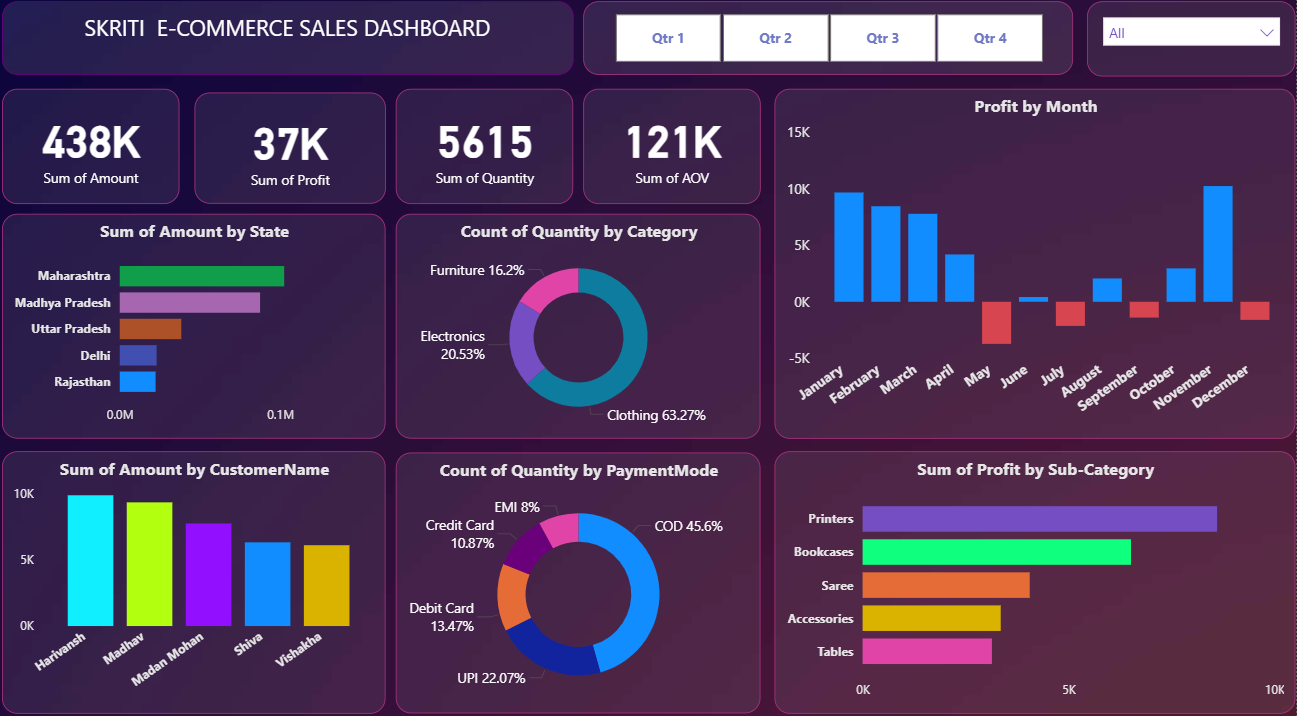

The dashboard page shown, as its layout file describes it:
{"tool":"powerbi","page":{"name":"Page 1","canvas":[1280,720],"ordinal":0},"visuals":[{"type":"columnChart","title":"Profit by Month","fields":{"Category":["Orders.Order Date.Variation.Date Hierarchy.Month"],"Y":["Sum(Details.Profit)"]},"box":[770.4,96.6,509.9,342.4],"z":0},{"type":"barChart","fields":{"Y":["Sum(Details.Profit)"],"Category":["Details.Sub-Category"]},"box":[770.4,451.2,509.9,256.8],"z":1000},{"type":"donutChart","fields":{"Category":["Details.Category"],"Y":["CountNonNull(Details.Quantity)"]},"box":[399.9,218.9,357.1,220.1],"z":2000},{"type":"donutChart","fields":{"Y":["CountNonNull(Details.Quantity)"],"Category":["Details.PaymentMode"]},"box":[399.9,452.4,357.1,255.6],"z":3000},{"type":"card","fields":{"Values":["Sum(Details.Amount)"]},"box":[14.7,96.6,173.6,112.5],"z":4000},{"type":"barChart","fields":{"Category":["Orders.State"],"Y":["Sum(Details.Amount)"]},"box":[14.7,218.9,375.4,220.1],"z":5000},{"type":"columnChart","fields":{"Category":["Orders.CustomerName"],"Y":["Sum(Details.Amount)"]},"box":[14.7,451.2,375.4,256.8],"z":6000},{"type":"slicer","fields":{"Values":["Orders.Order Date.Variation.Date Hierarchy.Quarter"]},"box":[583.3,11,479.4,72.1],"z":7000},{"type":"slicer","fields":{"Values":["Orders.State"]},"box":[1076.1,11,204.2,73.4],"z":8000},{"type":"textbox","box":[14.7,11,558.8,72.1],"z":9000},{"type":"card","fields":{"Values":["Sum(Details.Profit)"]},"box":[203,100.3,187.1,108.8],"z":10000},{"type":"card","fields":{"Values":["Sum(Details.Quantity)"]},"box":[399.9,96.6,173.6,112.5],"z":11000},{"type":"card","fields":{"Values":["Sum(Details.AOV)"]},"box":[583.3,96.6,173.6,112.5],"z":12000}]}

Visuals, with their boxes in screenshot pixels (x1, y1, x2, y2), scaled from the page's 1280x720 canvas onto the 1297x716 screenshot:
"Profit by Month" columnChart: {"left": 781, "top": 96, "right": 1296, "bottom": 437}
barChart - Sum(Details.Profit) x Details.Sub-Category: {"left": 781, "top": 449, "right": 1296, "bottom": 704}
donutChart - Details.Category x CountNonNull(Details.Quantity): {"left": 405, "top": 218, "right": 767, "bottom": 437}
donutChart - CountNonNull(Details.Quantity) x Details.PaymentMode: {"left": 405, "top": 450, "right": 767, "bottom": 704}
card - Sum(Details.Amount): {"left": 15, "top": 96, "right": 191, "bottom": 208}
barChart - Orders.State x Sum(Details.Amount): {"left": 15, "top": 218, "right": 395, "bottom": 437}
columnChart - Orders.CustomerName x Sum(Details.Amount): {"left": 15, "top": 449, "right": 395, "bottom": 704}
slicer - Orders.Order Date.Variation.Date Hierarchy.Quarter: {"left": 591, "top": 11, "right": 1077, "bottom": 83}
slicer - Orders.State: {"left": 1090, "top": 11, "right": 1296, "bottom": 84}
textbox: {"left": 15, "top": 11, "right": 581, "bottom": 83}
card - Sum(Details.Profit): {"left": 206, "top": 100, "right": 395, "bottom": 208}
card - Sum(Details.Quantity): {"left": 405, "top": 96, "right": 581, "bottom": 208}
card - Sum(Details.AOV): {"left": 591, "top": 96, "right": 767, "bottom": 208}
